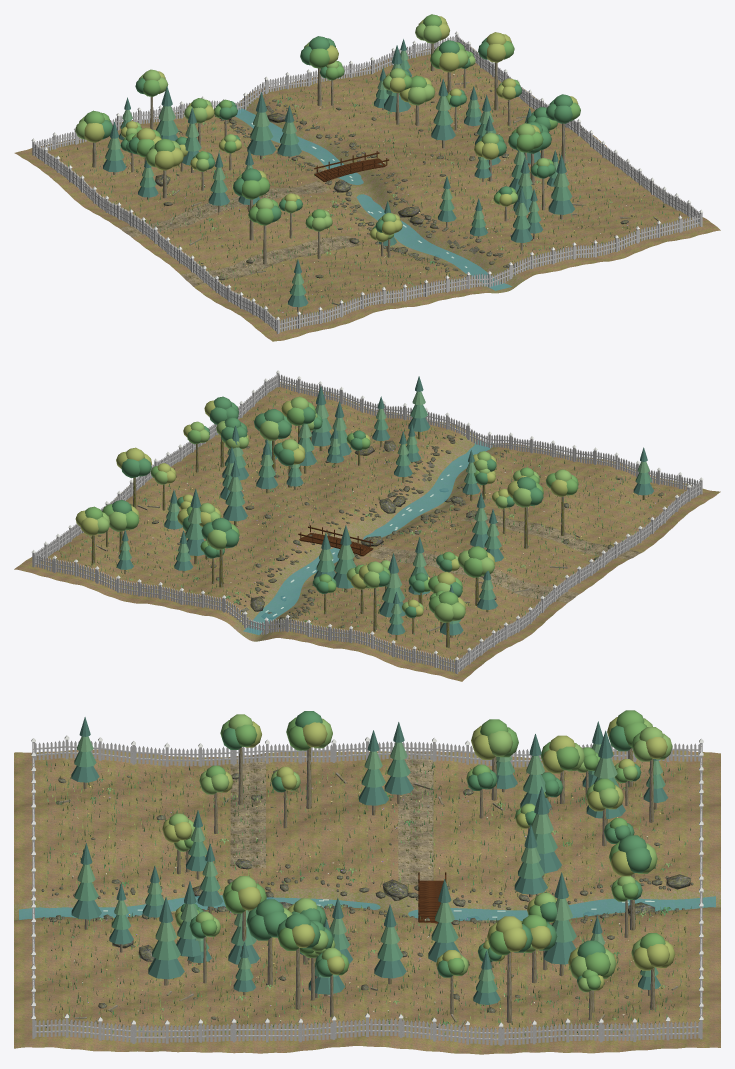
The model's file is MeadowArena-GameLOD.glb.
3 views of the same model, one above another, from view 1: azimuth 30°, elevation 25°; view 2: azimuth 150°, elevation 25°; view 3: azimuth 270°, elevation 25° (orthographic). The views are drawn at different scales.
Parts seen in each view (by area): view 1: Ground • sculpted banks and hills, ARENA_FENCE_PICKET_BATCH | 0, Water • meandering stream surface, ARENA_FENCE_PICKET_BATCH | 3, ARENA_FENCE_PICKET_BATCH | 2, ARENA_FENCE_PICKET_BATCH | 1, GAME_GRASS_LOD | MEADOW_GRASS | wind-responsive blades 00, GAME_GRASS_LOD | MEADOW_GRASS | wind-responsive blades 01, GAME_GRASS_LOD | MEADOW_GRASS | wind-responsive blades 03, GAME_GRASS_LOD | MEADOW_GRASS | wind-responsive blades 02; view 2: Ground • sculpted banks and hills, ARENA_FENCE_PICKET_BATCH | 2, ARENA_FENCE_PICKET_BATCH | 0, Water • meandering stream surface, ARENA_FENCE_PICKET_BATCH | 3, ARENA_FENCE_PICKET_BATCH | 1, GAME_GRASS_LOD | MEADOW_GRASS | wind-responsive blades 00, GAME_GRASS_LOD | MEADOW_GRASS | wind-responsive blades 03, GAME_GRASS_LOD | MEADOW_GRASS | wind-responsive blades 01, GAME_GRASS_LOD | MEADOW_GRASS | wind-responsive blades 02; view 3: Ground • sculpted banks and hills, ARENA_FENCE_PICKET_BATCH | 1, ARENA_FENCE_PICKET_BATCH | 3, Water • meandering stream surface, GAME_GRASS_LOD | MEADOW_GRASS | wind-responsive blades 00, GAME_GRASS_LOD | MEADOW_GRASS | wind-responsive blades 03, GAME_GRASS_LOD | MEADOW_GRASS | wind-responsive blades 01, GAME_GRASS_LOD | MEADOW_GRASS | wind-responsive blades 02, Tree 066 • spruce whorl 01.
Part boxes in pixels (x1=…): Ground • sculpted banks and hills: x1=14, y1=41, x2=720, y2=341; ARENA_FENCE_PICKET_BATCH | 0: x1=279, y1=214, x2=700, y2=332; Water • meandering stream surface: x1=235, y1=105, x2=511, y2=290; ARENA_FENCE_PICKET_BATCH | 3: x1=33, y1=142, x2=276, y2=331; ARENA_FENCE_PICKET_BATCH | 2: x1=35, y1=35, x2=456, y2=151; ARENA_FENCE_PICKET_BATCH | 1: x1=457, y1=36, x2=699, y2=223; GAME_GRASS_LOD | MEADOW_GRASS | wind-responsive blades 00: x1=170, y1=198, x2=463, y2=323; GAME_GRASS_LOD | MEADOW_GRASS | wind-responsive blades 01: x1=391, y1=140, x2=683, y2=263; GAME_GRASS_LOD | MEADOW_GRASS | wind-responsive blades 03: x1=264, y1=57, x2=570, y2=176; GAME_GRASS_LOD | MEADOW_GRASS | wind-responsive blades 02: x1=52, y1=117, x2=339, y2=237; Ground • sculpted banks and hills: x1=14, y1=382, x2=720, y2=681; ARENA_FENCE_PICKET_BATCH | 2: x1=34, y1=554, x2=455, y2=672; ARENA_FENCE_PICKET_BATCH | 0: x1=278, y1=374, x2=699, y2=489; Water • meandering stream surface: x1=243, y1=440, x2=493, y2=634; ARENA_FENCE_PICKET_BATCH | 3: x1=458, y1=481, x2=701, y2=671; ARENA_FENCE_PICKET_BATCH | 1: x1=35, y1=374, x2=277, y2=564; GAME_GRASS_LOD | MEADOW_GRASS | wind-responsive blades 00: x1=397, y1=450, x2=685, y2=576; GAME_GRASS_LOD | MEADOW_GRASS | wind-responsive blades 03: x1=56, y1=480, x2=334, y2=603; GAME_GRASS_LOD | MEADOW_GRASS | wind-responsive blades 01: x1=174, y1=390, x2=453, y2=517; GAME_GRASS_LOD | MEADOW_GRASS | wind-responsive blades 02: x1=289, y1=538, x2=561, y2=663; Ground • sculpted banks and hills: x1=14, y1=749, x2=720, y2=1054; ARENA_FENCE_PICKET_BATCH | 1: x1=35, y1=1018, x2=699, y2=1045; ARENA_FENCE_PICKET_BATCH | 3: x1=35, y1=740, x2=699, y2=767; Water • meandering stream surface: x1=19, y1=895, x2=715, y2=920; GAME_GRASS_LOD | MEADOW_GRASS | wind-responsive blades 00: x1=43, y1=760, x2=367, y2=890; GAME_GRASS_LOD | MEADOW_GRASS | wind-responsive blades 03: x1=367, y1=906, x2=691, y2=1037; GAME_GRASS_LOD | MEADOW_GRASS | wind-responsive blades 01: x1=43, y1=904, x2=367, y2=1038; GAME_GRASS_LOD | MEADOW_GRASS | wind-responsive blades 02: x1=367, y1=759, x2=691, y2=897; Tree 066 • spruce whorl 01: x1=148, y1=958, x2=184, y2=979.
Bounding box in the file's own units: 72 × 13.92 × 72.
28 materials, 7 textured.
